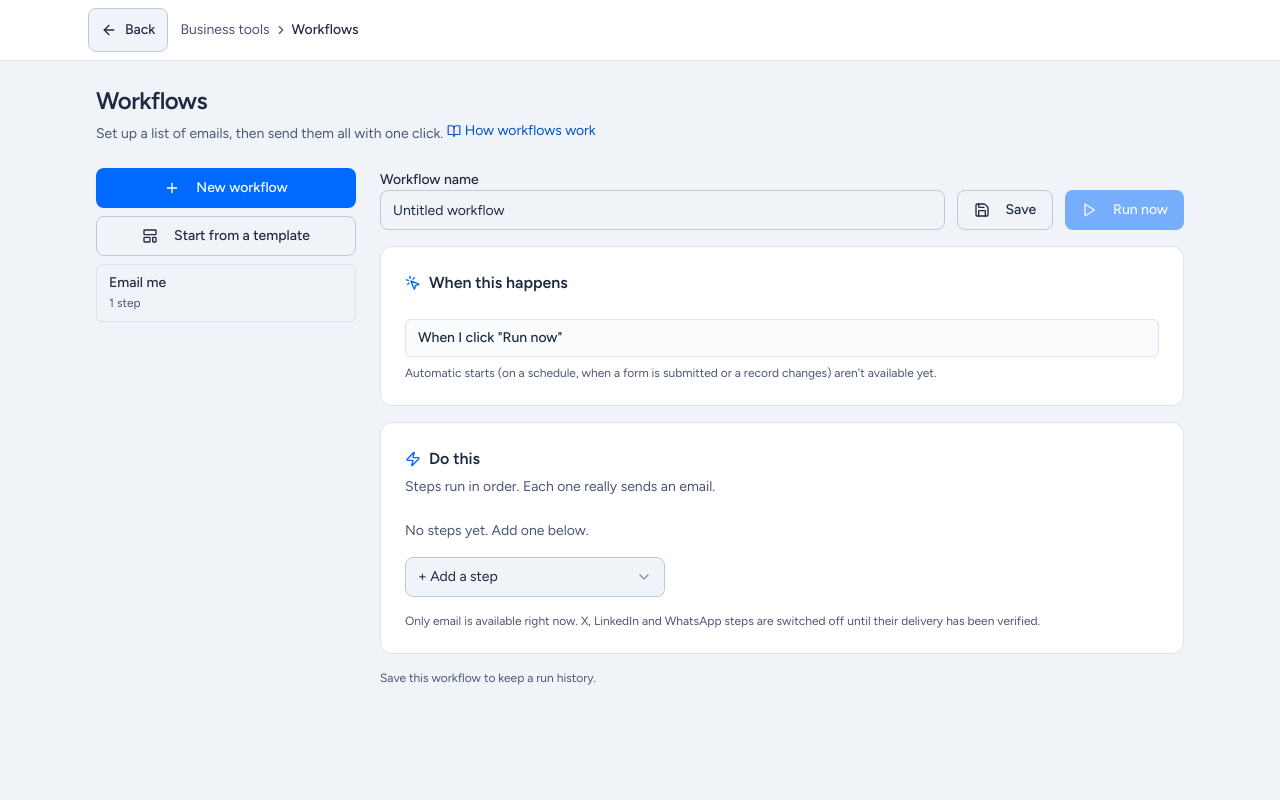
Run history panel (Phase 15) › shows each step plainly: Sent / Failed with the reason / Delivery status unknown / Skipped; no addresses
Click the button "Email me 1 step": [138, 282] box top-left (96, 264), bottom-right (356, 322)
(page scrolled)
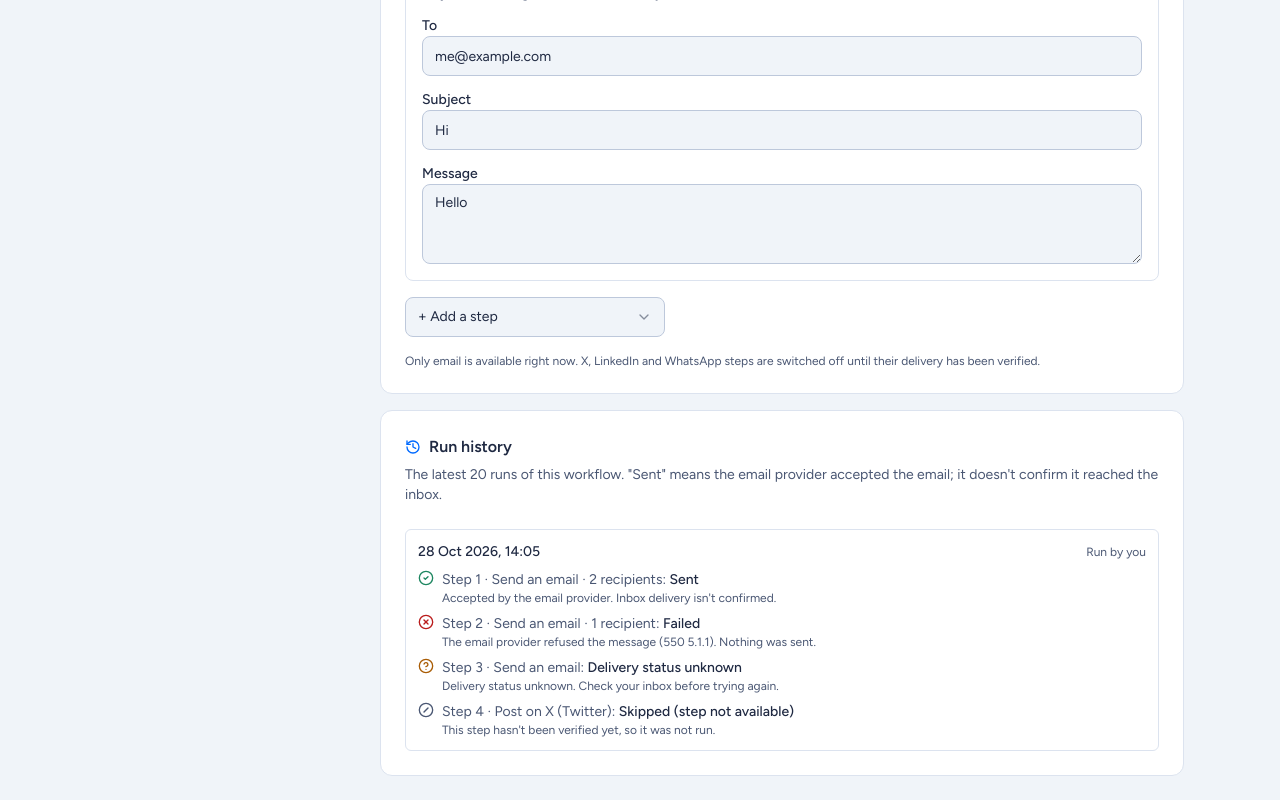
Check: the list "Run history" does not show "@"
Check: the text "Run by you" is shown, box top-left (1086, 544), bottom-right (1146, 560)
